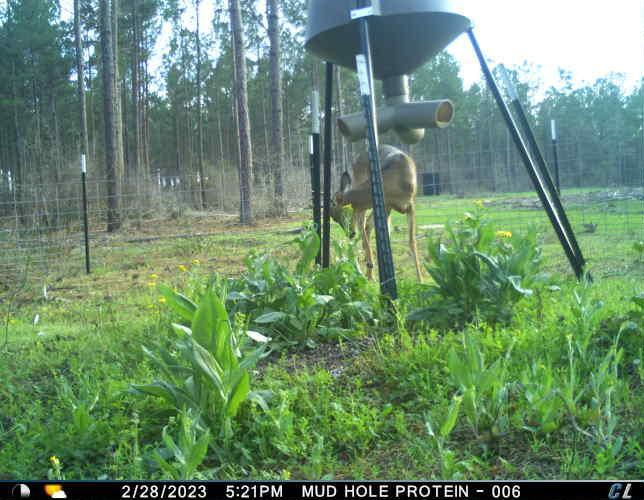Deer: (332, 139, 429, 285)
